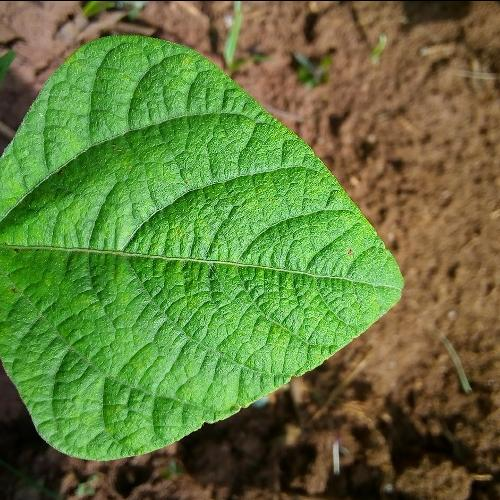hawar: (336, 233, 362, 266)
mozaik: (30, 118, 246, 394)
